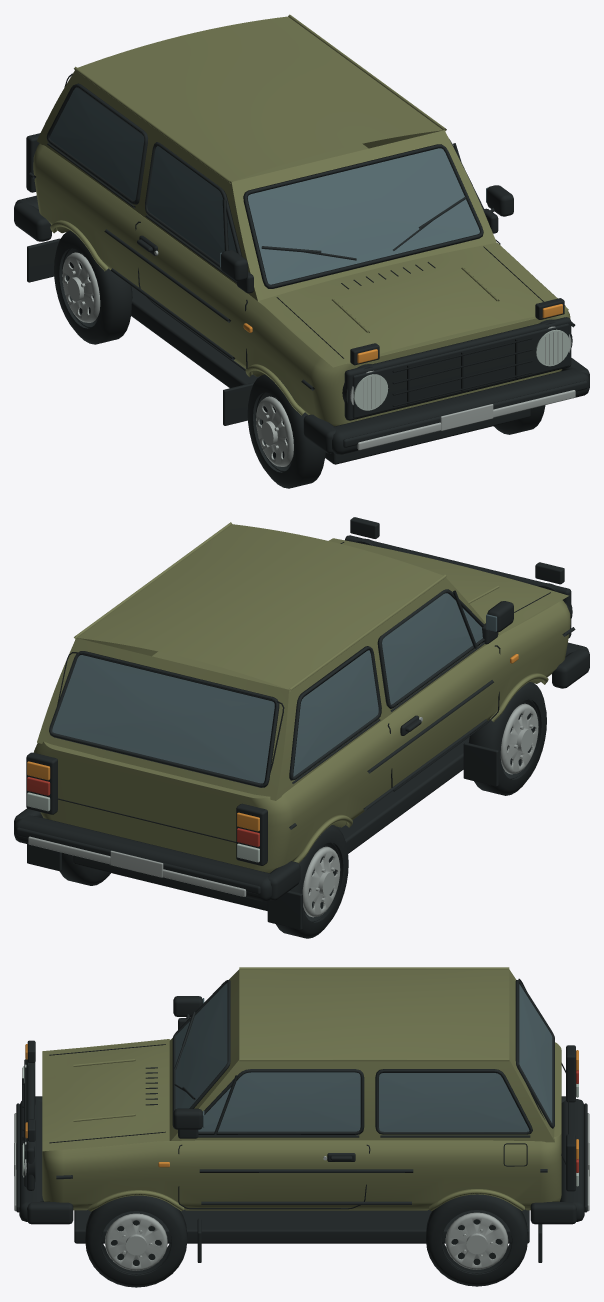
File: rural_4x4.glb
The picture shows the model from 3 angles, top to bottom: view 1: azimuth 30°, elevation 25°; view 2: azimuth 150°, elevation 25°; view 3: azimuth 270°, elevation 25°; orthographic projection. The views are drawn at different scales.
Visible parts, largest first — view 1: rural_4x4 shape study; view 2: rural_4x4 shape study; view 3: rural_4x4 shape study.
Part boxes in pixels (box(x1,y1,x2,y2)): rural_4x4 shape study: box(14, 14, 589, 488); rural_4x4 shape study: box(14, 517, 589, 938); rural_4x4 shape study: box(14, 967, 589, 1287).
Bounding box in the file's own units: 1.81 × 1.64 × 3.72.
